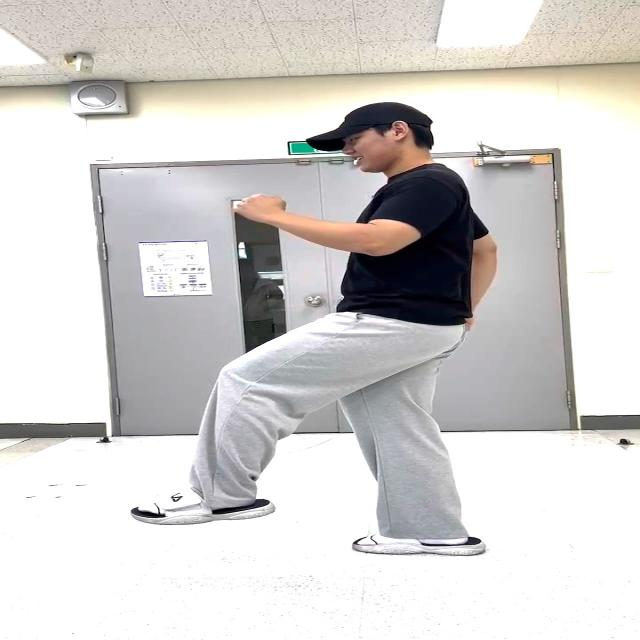leg: (118, 284, 364, 528)
